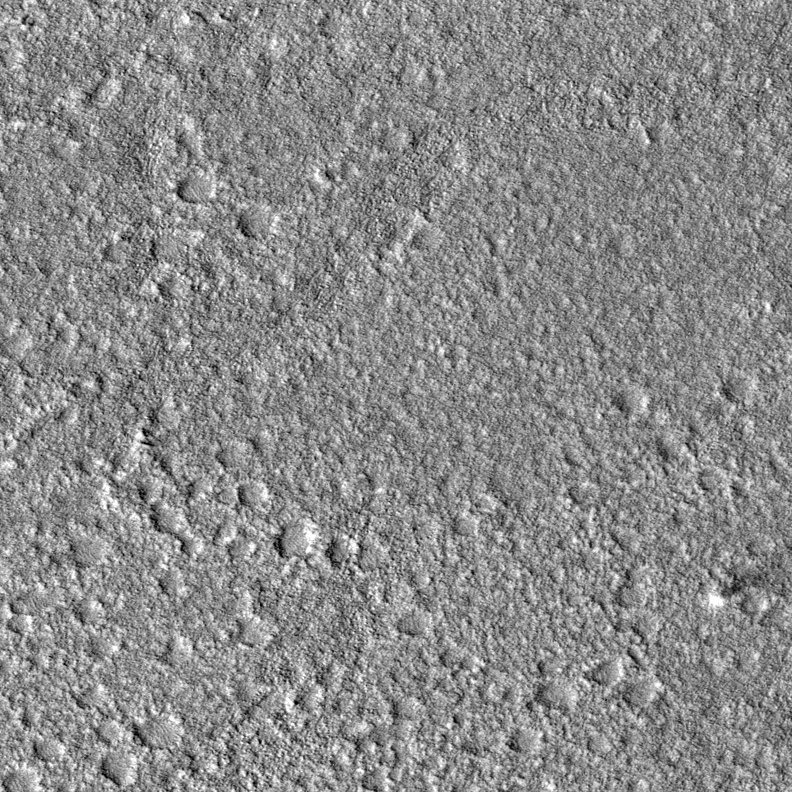dust_devil: (706, 567, 764, 611)
